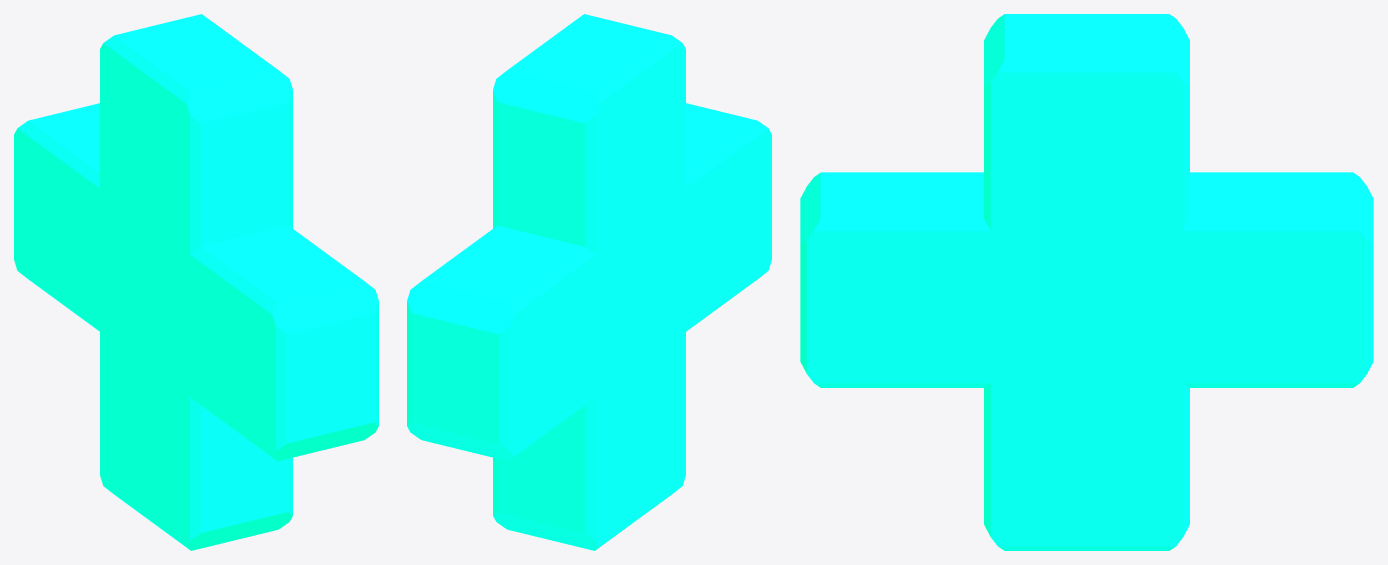
Rendered from RecoverAdd.fbx.
The picture shows the model from 3 angles, left to right: view 1: azimuth 30°, elevation 25°; view 2: azimuth 150°, elevation 25°; view 3: azimuth 270°, elevation 25°; orthographic projection. The views are drawn at different scales.
Parts seen in each view (by area): view 1: RecoverAdd; view 2: RecoverAdd; view 3: RecoverAdd.
Part boxes in pixels (left/top/right/bottom): RecoverAdd: left=14, top=14, right=378, bottom=550; RecoverAdd: left=407, top=14, right=771, bottom=550; RecoverAdd: left=800, top=14, right=1373, bottom=550.
Size of the model in its own units: 86.66 by 369 by 390.
